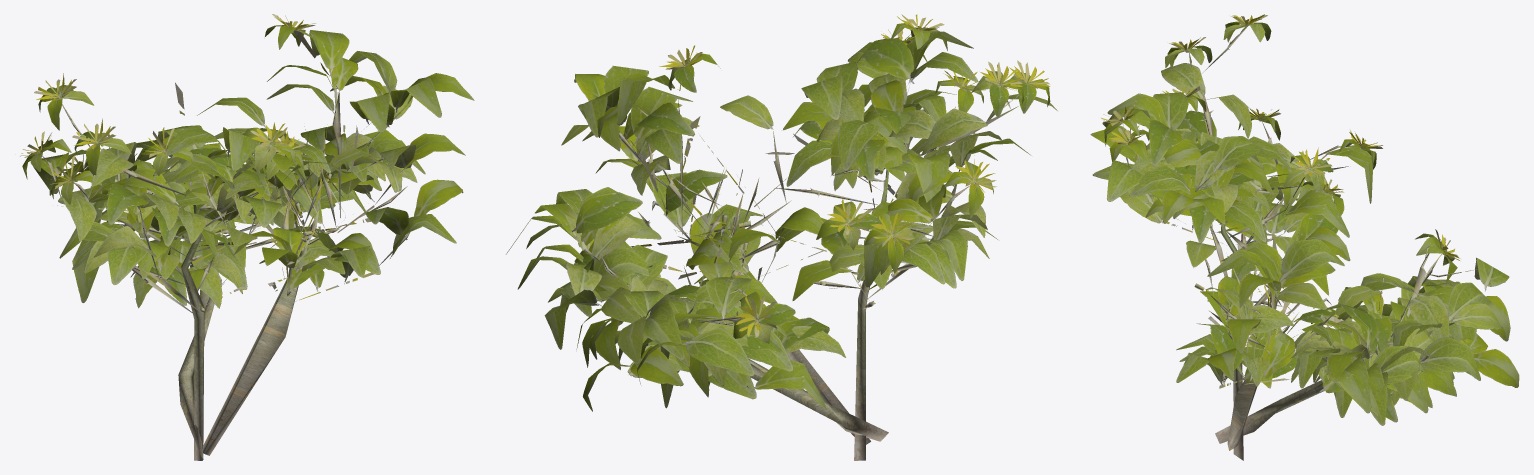
The model's file is spinrosa.fbx.
The picture shows the model from 3 angles, left to right: view 1: azimuth 30°, elevation 25°; view 2: azimuth 150°, elevation 25°; view 3: azimuth 270°, elevation 25°; orthographic projection. The views are drawn at different scales.
Parts seen in each view (by area): view 1: didelta_spinosa_medium_LOD2.001; view 2: didelta_spinosa_medium_LOD2.001; view 3: didelta_spinosa_medium_LOD2.001.
Boxes of the visible parts, x1,y1,x2,y2 form: didelta_spinosa_medium_LOD2.001: (20,14,474,460); didelta_spinosa_medium_LOD2.001: (506,14,1057,460); didelta_spinosa_medium_LOD2.001: (1090,14,1519,460).
Size of the model in its own units: 235 by 214 by 216.
Materials: 1 (1 with a texture image).
